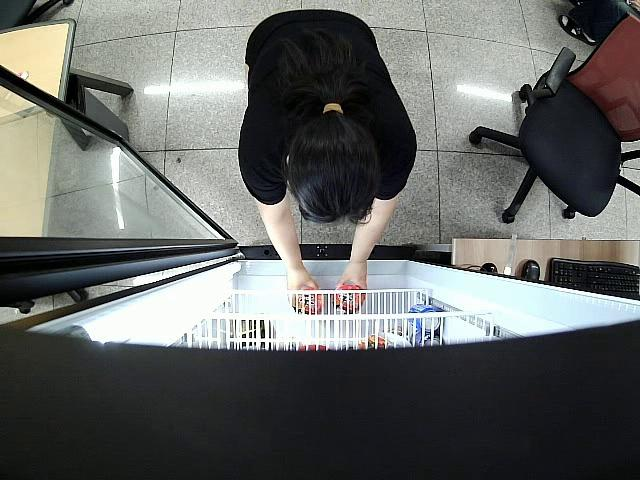00_hand: (337, 263, 368, 304), (286, 269, 317, 307)
02_shinRamen_S: (333, 283, 365, 315), (291, 285, 322, 316)
